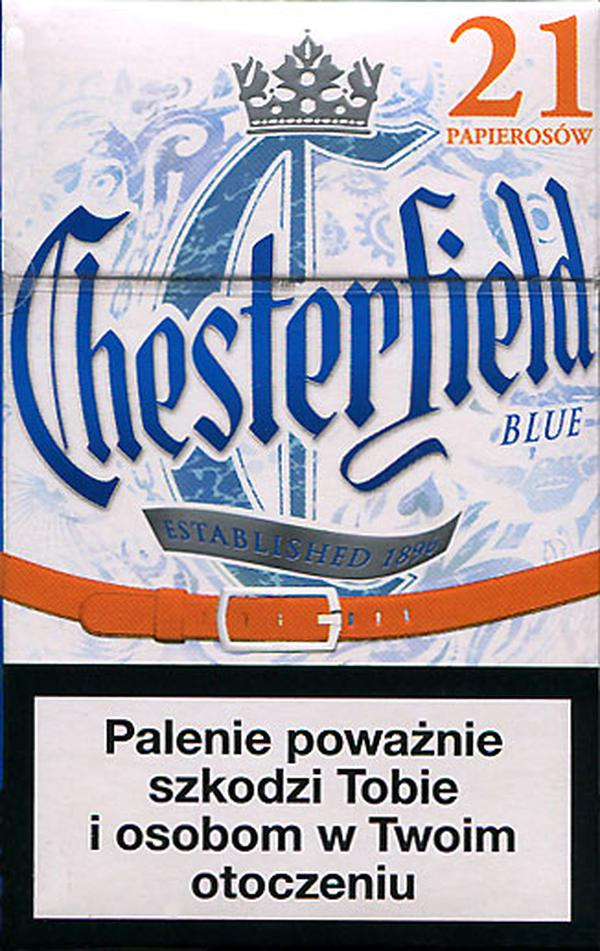chesterfield_blue: (3, 5, 593, 951)
